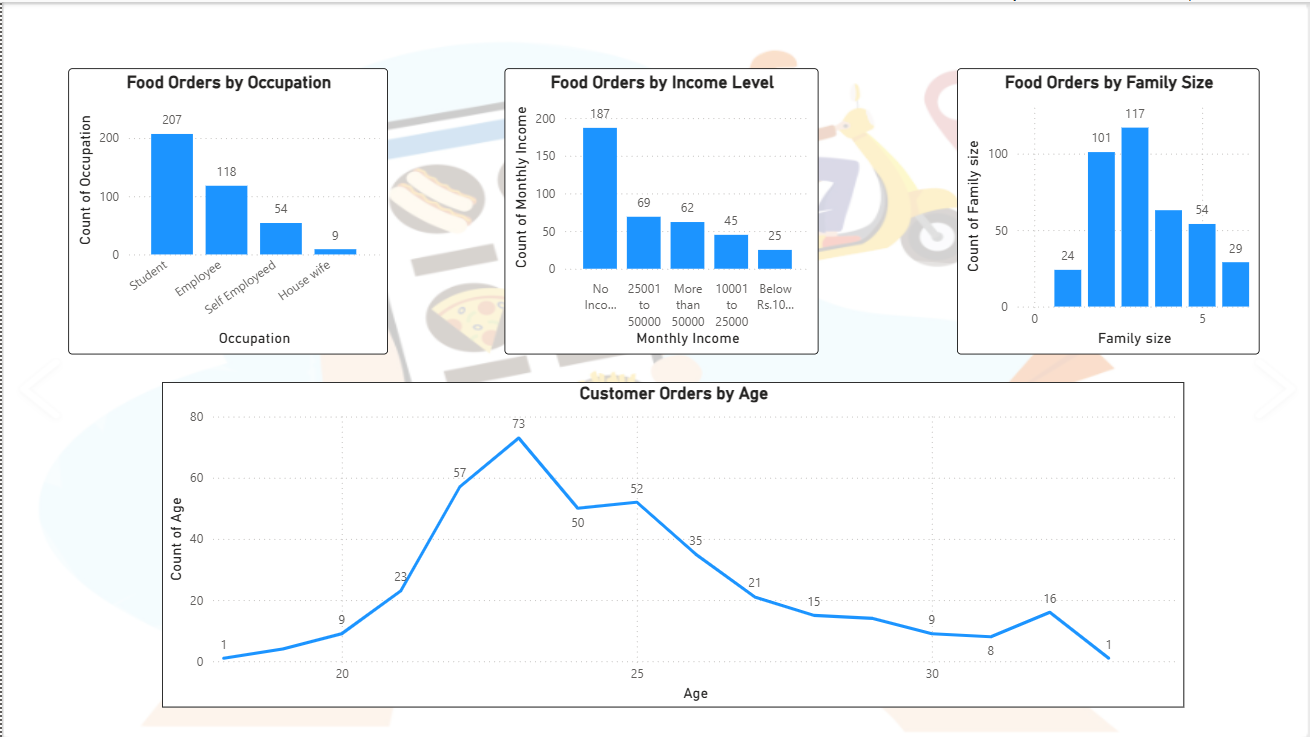

The page's visual inventory and layout, read from the dashboard file:
{"tool":"powerbi","page":{"name":"Page 2","canvas":[1280,720],"ordinal":1},"visuals":[{"type":"clusteredColumnChart","title":"Food Orders by Occupation","fields":{"Category":["onlinefoods.Occupation"],"Y":["CountNonNull(onlinefoods.Occupation)"]},"box":[64.5,64.5,312.9,279.9],"z":0},{"type":"clusteredColumnChart","title":"Food Orders by Income Level","fields":{"Category":["onlinefoods.Monthly Income"],"Y":["CountNonNull(onlinefoods.Monthly Income)"]},"box":[491.3,64.5,307.4,279.9],"z":1000},{"type":"clusteredColumnChart","title":"Food Orders by Family Size","fields":{"Category":["onlinefoods.Family size"],"Y":["CountNonNull(onlinefoods.Family size)"]},"box":[934.5,64.5,296.4,279.9],"z":2000},{"type":"lineChart","title":"Customer Orders by Age","fields":{"Category":["onlinefoods.Age"],"Y":["CountNonNull(onlinefoods.Age)"]},"box":[156.4,371.9,1000.3,318.4],"z":3000},{"type":"cardVisual","box":[6,372,150,318],"z":4000}]}

Visuals, with their boxes in screenshot pixels (x1, y1, x2, y2), scaled from the page's 1280x720 canvas onto the 1310x737 screenshot:
"Food Orders by Occupation" clusteredColumnChart: [66,66,386,353]
"Food Orders by Income Level" clusteredColumnChart: [503,66,817,353]
"Food Orders by Family Size" clusteredColumnChart: [956,66,1260,353]
"Customer Orders by Age" lineChart: [160,381,1184,707]
cardVisual: [6,381,160,706]
